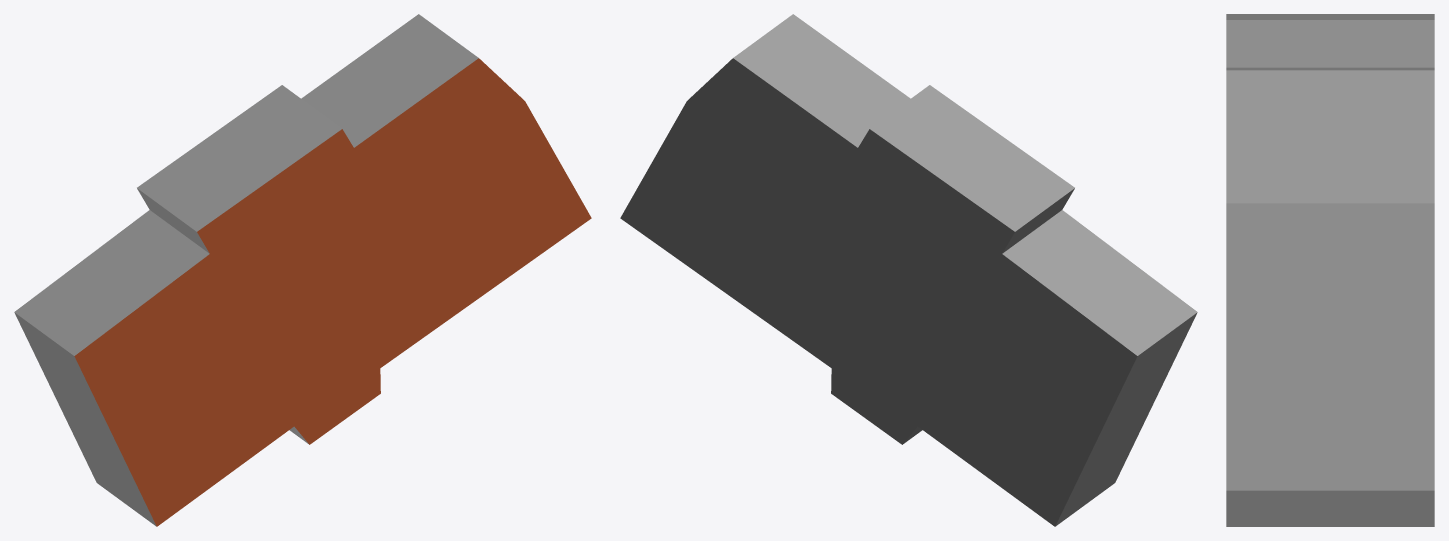
The model's file is construction_4292_assumed_A_Casa_h6m.obj.
3 renders of one model, left to right at view 1: azimuth 30°, elevation 25°; view 2: azimuth 150°, elevation 25°; view 3: azimuth 270°, elevation 25°, orthographic. The views are drawn at different scales.
Visible parts, largest first — view 1: construction_4292_assumed_A_Casa; view 2: construction_4292_assumed_A_Casa; view 3: construction_4292_assumed_A_Casa.
Part boxes in pixels (box(x1,y1,x2,y2)): construction_4292_assumed_A_Casa: box(14, 14, 591, 526); construction_4292_assumed_A_Casa: box(620, 14, 1197, 526); construction_4292_assumed_A_Casa: box(1226, 14, 1434, 526).
Size of the model in its own units: 29.77 by 21.46 by 6.
